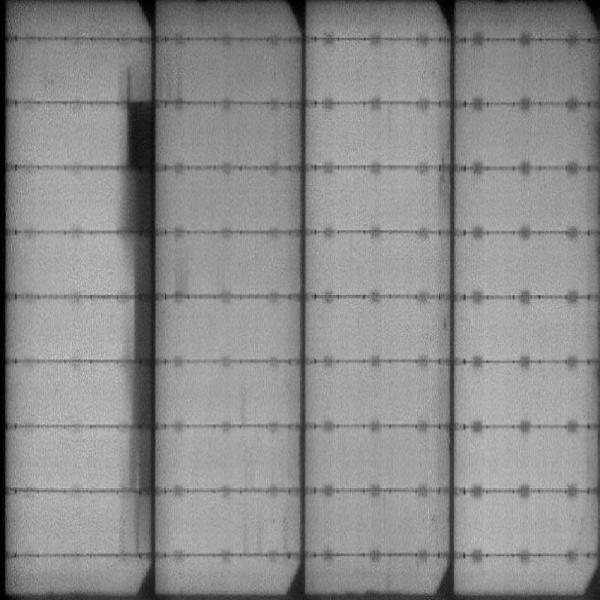black_border: (130, 237, 159, 504), (123, 99, 154, 230)
scratch: (118, 65, 138, 103)
